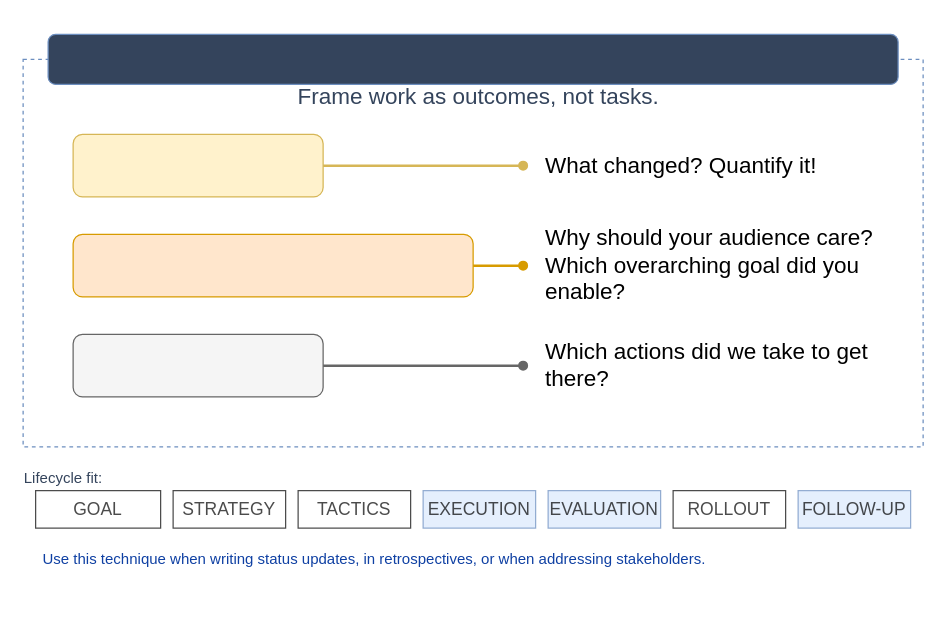
This 945x636 diagram has some shape labels left out. The shapes that lost their labels are listed below. From the top down, each one's centre as x and y in pixels, then its label:
At (x=472, y=58): "Impact Oriented Communication".
At (x=197, y=165): "We achieved [X]".
At (x=272, y=265): "which mattered because [Y].".
At (x=197, y=365): "We did this by [Z].".
